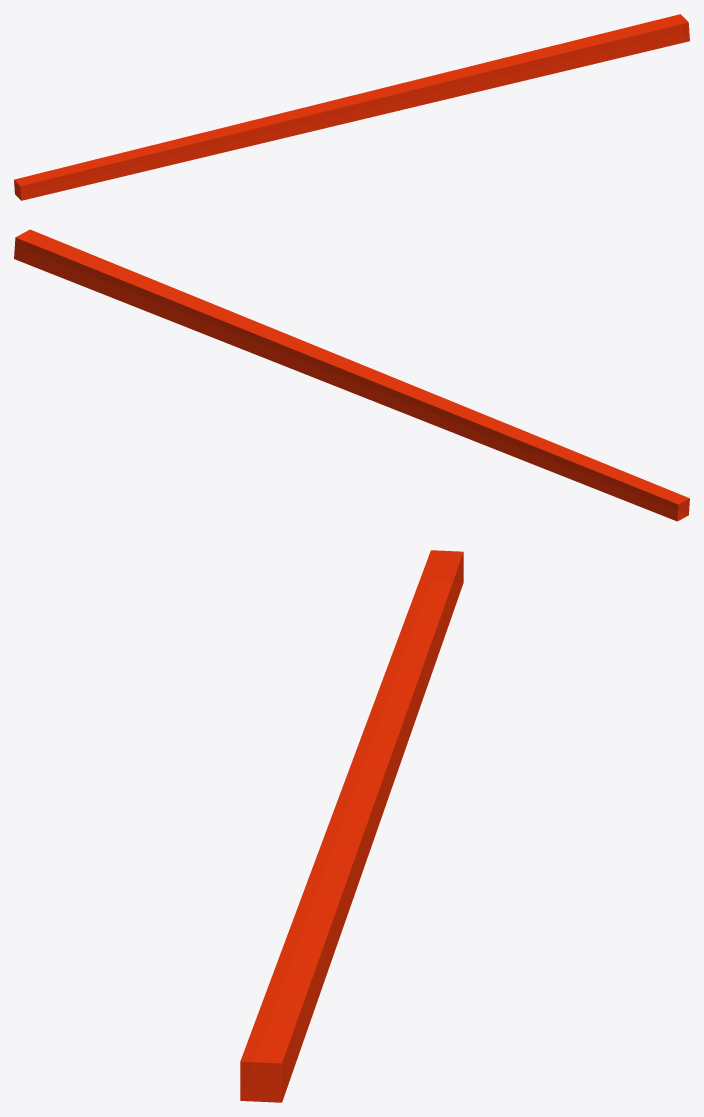
File: Event_421364160_EErechit_43.fbx
The picture shows the model from 3 angles, top to bottom: view 1: azimuth 30°, elevation 25°; view 2: azimuth 150°, elevation 25°; view 3: azimuth 270°, elevation 25°; orthographic projection. The views are drawn at different scales.
Visible parts, largest first — view 1: Model; view 2: Model; view 3: Model.
Boxes of the visible parts, x1,y1,x2,y2 form: Model: (14,14,689,200); Model: (14,229,689,521); Model: (240,550,463,1102).
Bounding box in the file's own units: 3.17 × 0.302 × 0.4909.
